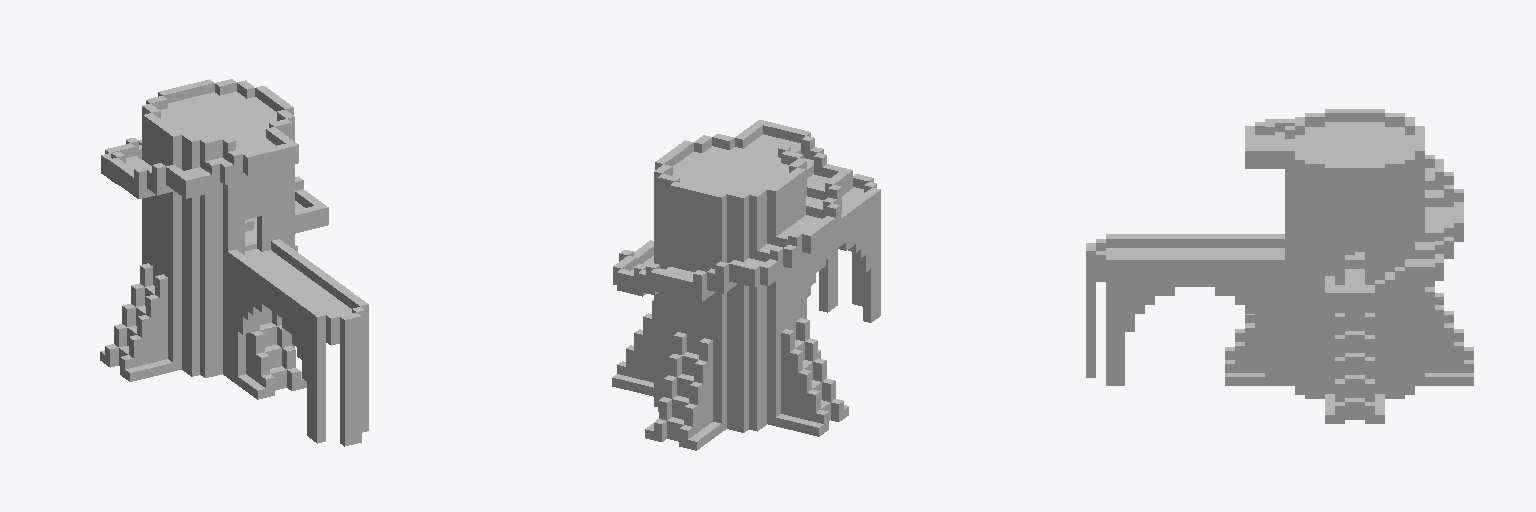
Rendered from Tower.obj.
3 views of the same model, side by side, from view 1: azimuth 30°, elevation 25°; view 2: azimuth 150°, elevation 25°; view 3: azimuth 270°, elevation 25° (orthographic).
Visible parts, largest first — view 1: Tower; view 2: Tower; view 3: Tower.
Boxes of the visible parts, x1,y1,x2,y2 form: Tower: [100, 79, 368, 446]; Tower: [612, 120, 880, 450]; Tower: [1086, 109, 1473, 423].
Size of the model in its own units: 2.4 by 2.6 by 3.9.